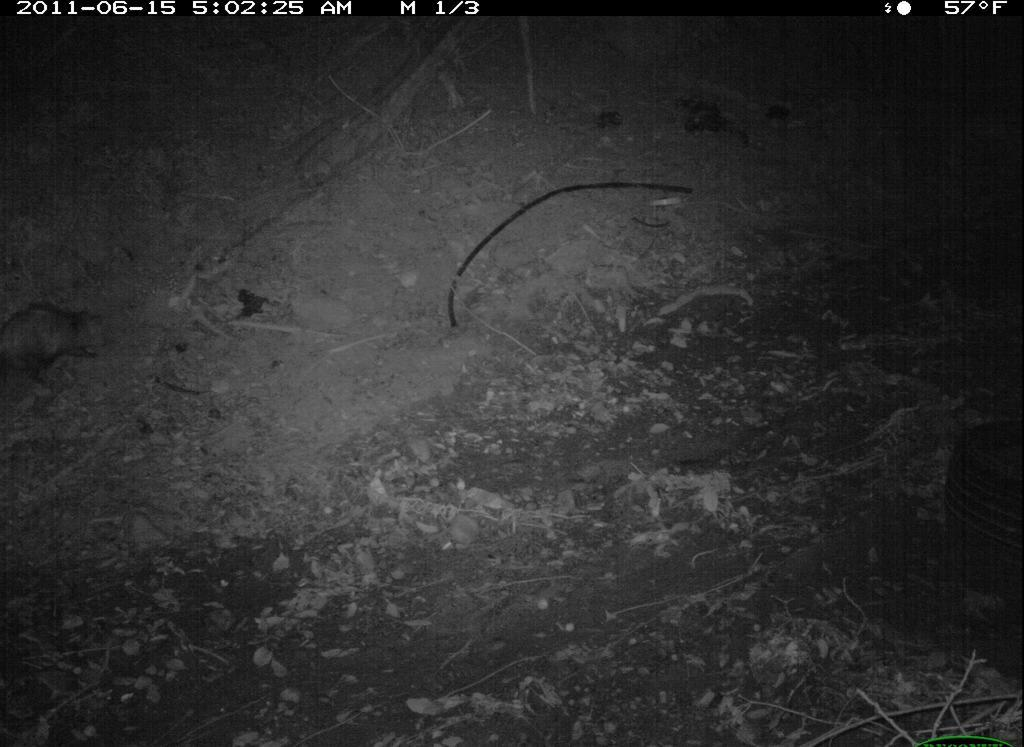opossum: (4, 291, 105, 399)
